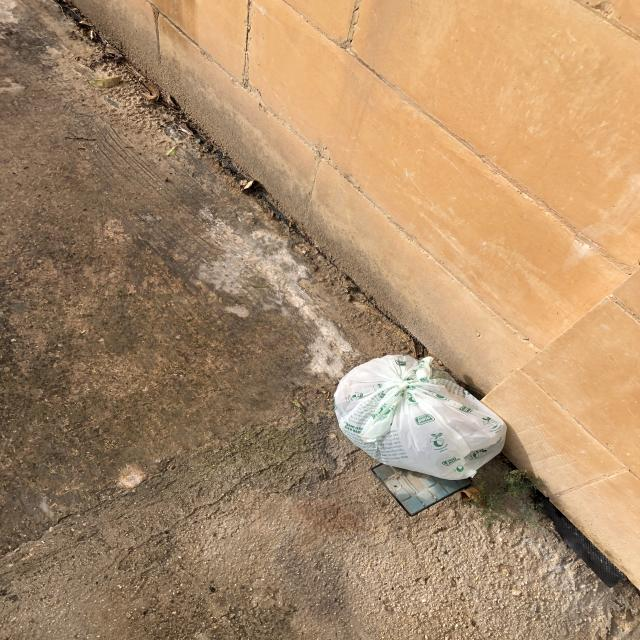Organic Waste -White Bag-: (334, 347, 512, 493)
